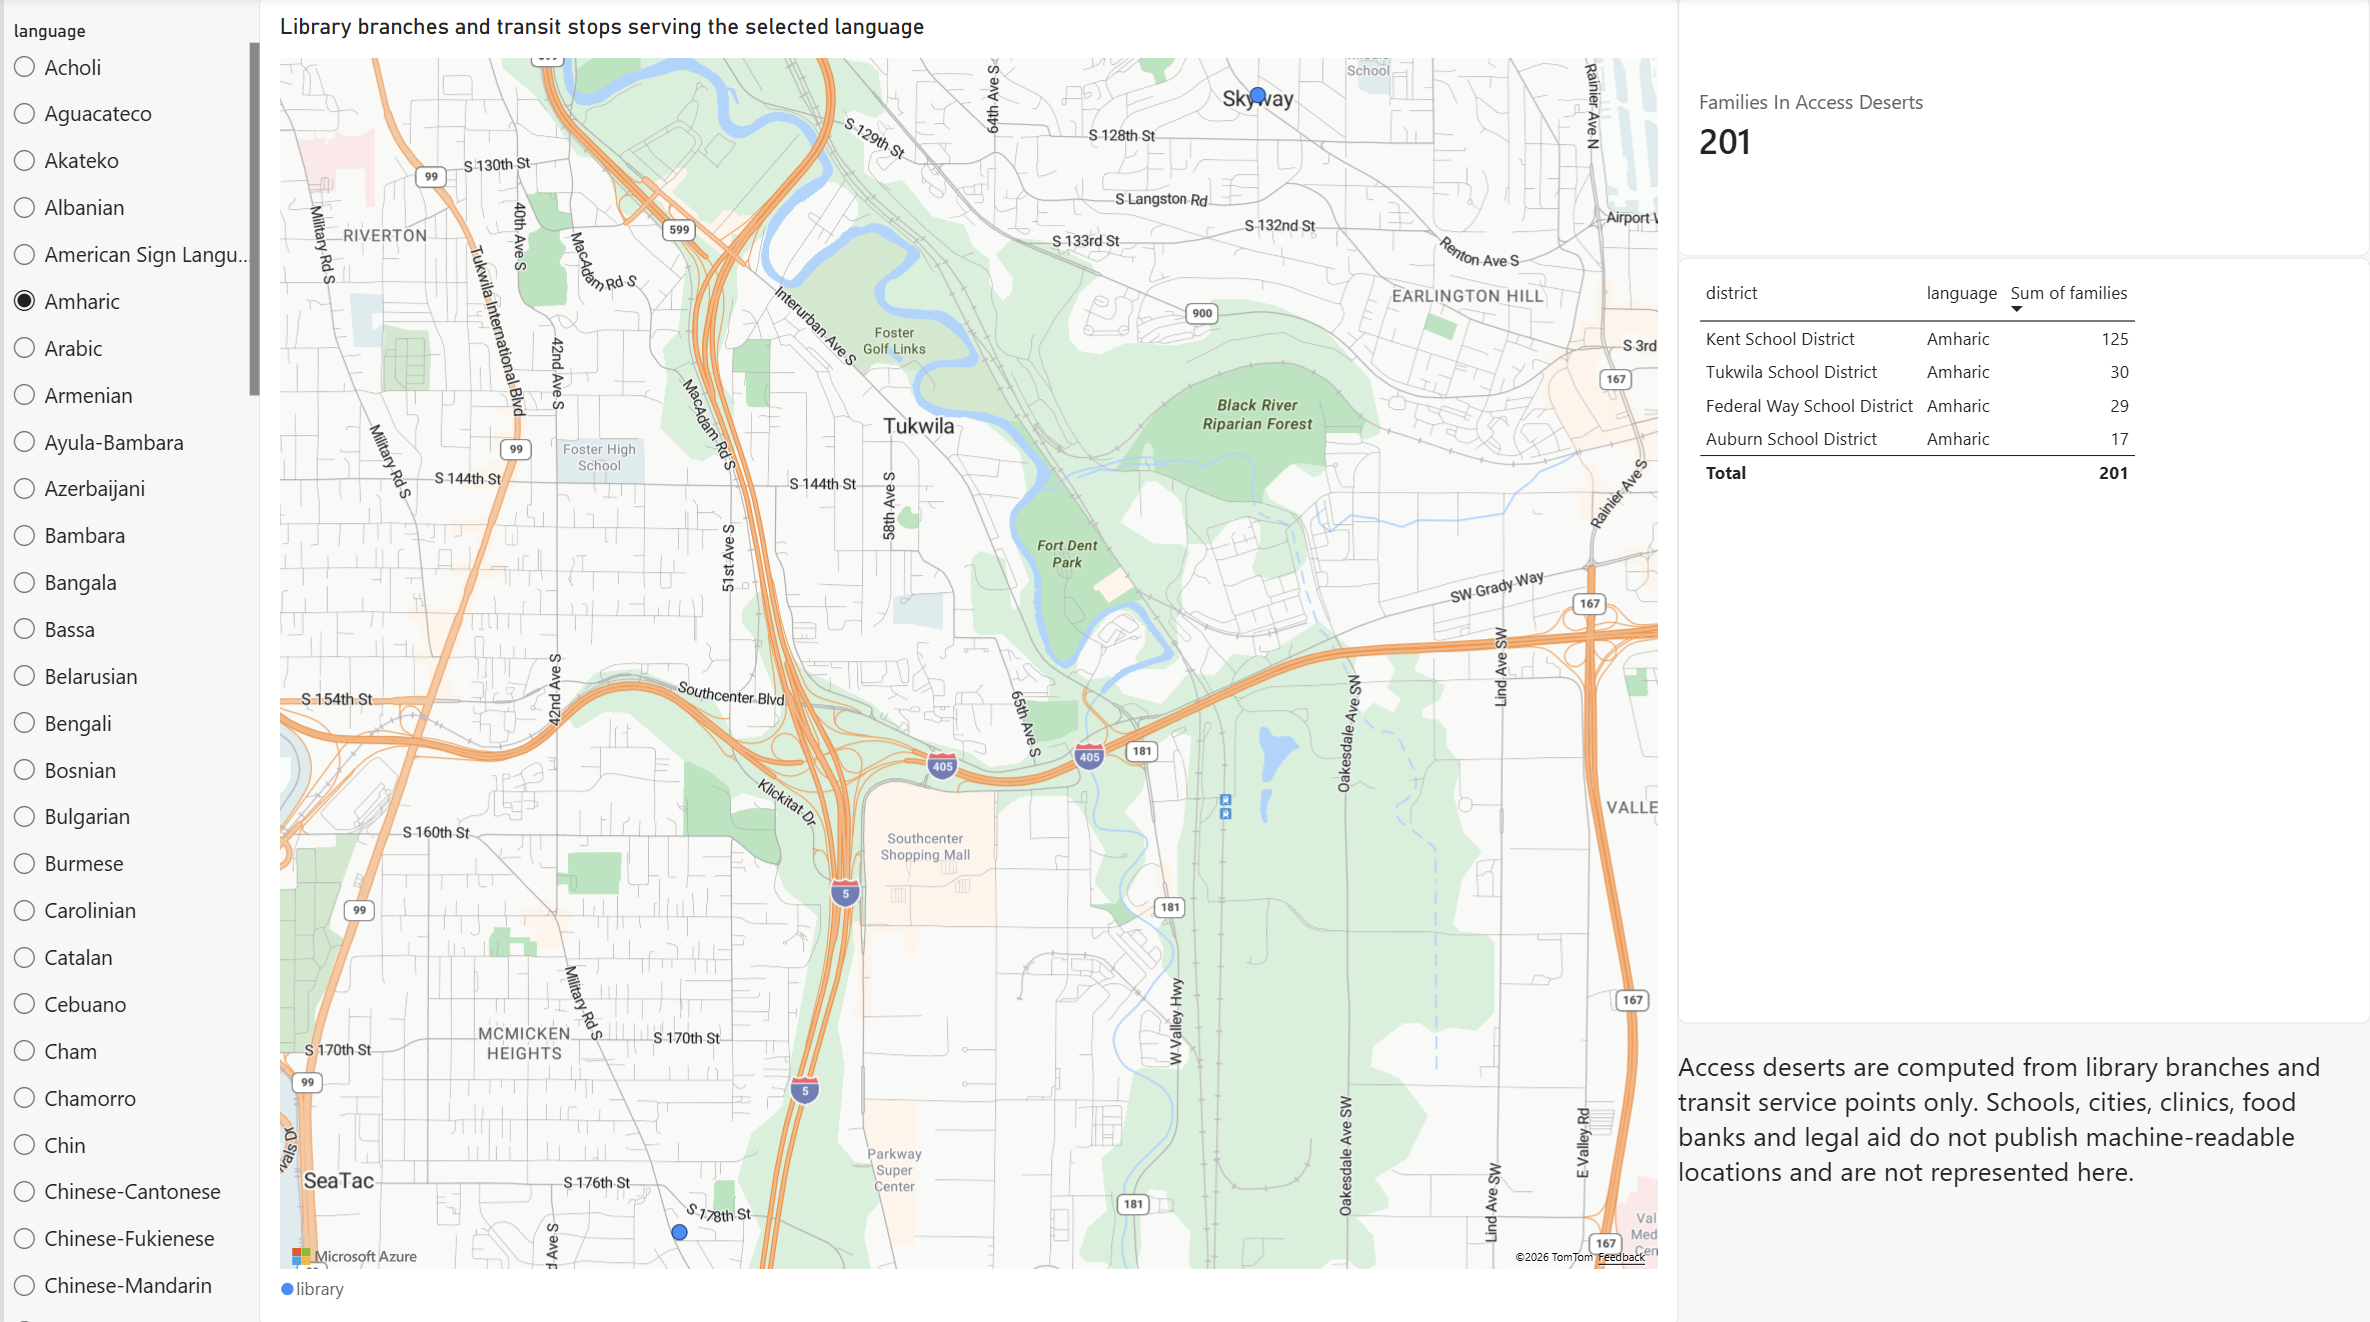

The page's visual inventory and layout, read from the dashboard file:
{"tool":"powerbi","page":{"name":"Where you can walk in","canvas":[1920,1080],"ordinal":3},"visuals":[{"type":"azureMap","title":"Library branches and transit stops serving the selected language","fields":{"Series":["fact_service_point.sector"],"X":["fact_service_point.lon"],"Y":["fact_service_point.lat"]},"box":[207.1,0,1151.8,1080.9],"z":0},{"type":"slicer","fields":{"Values":["dim_language.language"]},"box":[0,19.9,207.1,1061],"z":1000},{"type":"cardVisual","fields":{"Data":["fact_gap.Families In Access Deserts"]},"box":[1358.9,0,561.7,212.8],"z":2000},{"type":"tableEx","fields":{"Values":["fact_access_desert.district","fact_access_desert.language","Sum(fact_access_desert.families)"]},"box":[1358.9,212.8,561.7,621.3],"z":3000},{"type":"textbox","box":[1358.9,853.9,561.7,139],"z":4000}]}

Visuals, with their boxes in screenshot pixels (x1, y1, x2, y2), scaled from the page's 1920x1080 canvas onto the 2370x1322 screenshot:
"Library branches and transit stops serving the selected language" azureMap: {"left": 256, "top": 0, "right": 1677, "bottom": 1321}
slicer - dim_language.language: {"left": 0, "top": 24, "right": 256, "bottom": 1321}
cardVisual - fact_gap.Families In Access Deserts: {"left": 1677, "top": 0, "right": 2369, "bottom": 260}
tableEx - fact_access_desert.district x fact_access_desert.language: {"left": 1677, "top": 260, "right": 2369, "bottom": 1021}
textbox: {"left": 1677, "top": 1045, "right": 2369, "bottom": 1215}
